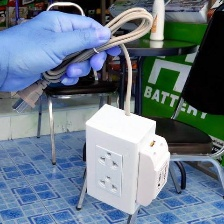three_eye_plug: (81, 99, 172, 217)
